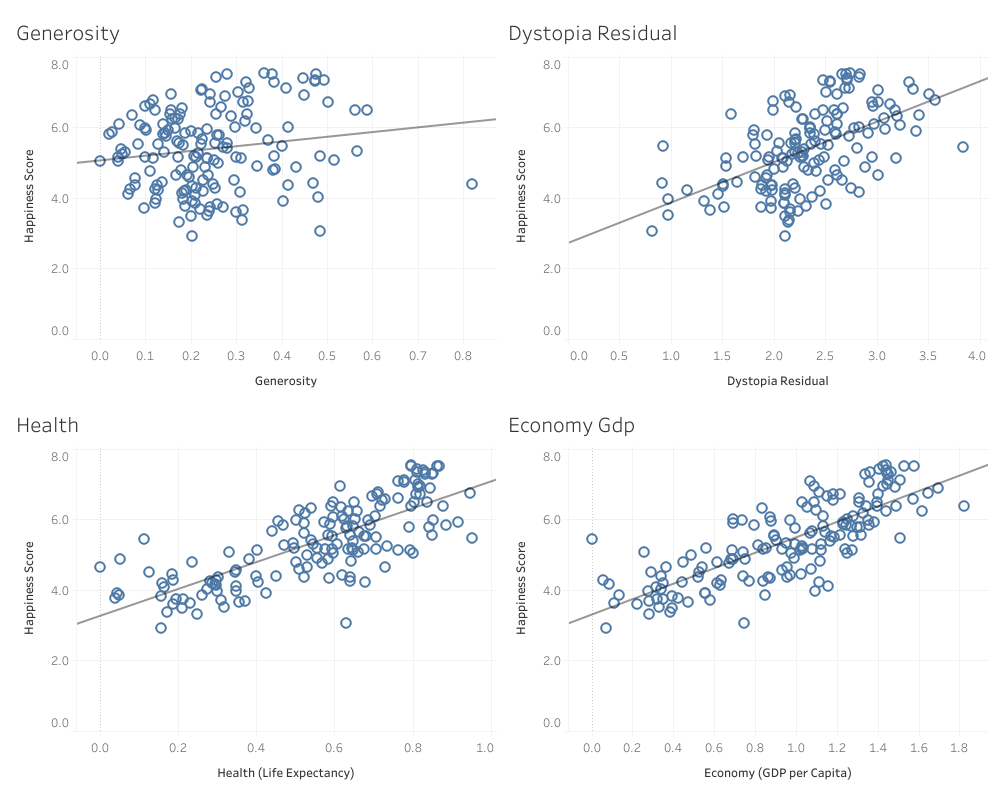

The page's visual inventory and layout, read from the dashboard file:
{"tool":"tableau","page":{"name":"Dashboard 1","canvas":[1000,800],"ordinal":0},"visuals":[{"type":"worksheet","title":"Generosity","mark":"Automatic","rows":["Happiness Score"],"cols":["Generosity"],"box":[8,8,492,392]},{"type":"worksheet","title":"Dystopia Residual","mark":"Automatic","rows":["Happiness Score"],"cols":["Dystopia Residual"],"box":[500,8,492,392]},{"type":"worksheet","title":"Health","mark":"Automatic","rows":["Happiness Score"],"cols":["Health (Life Expectancy)"],"box":[8,400,492,392]},{"type":"worksheet","title":"Economy Gdp","mark":"Automatic","rows":["Happiness Score"],"cols":["Economy (GDP per Capita)"],"box":[500,400,492,392]}]}

Visuals, with their boxes in screenshot pixels (x1, y1, x2, y2), scaled from the page's 1000x800 canvas onto the 999x799 screenshot:
"Generosity" worksheet: x1=8 y1=8 x2=500 y2=400
"Dystopia Residual" worksheet: x1=500 y1=8 x2=991 y2=400
"Health" worksheet: x1=8 y1=400 x2=500 y2=791
"Economy Gdp" worksheet: x1=500 y1=400 x2=991 y2=791
